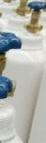cylinder: (1, 1, 46, 143)
